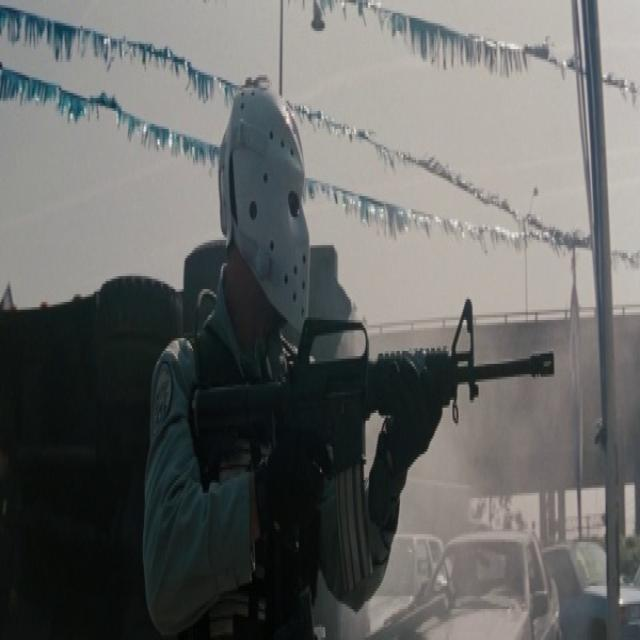rifle: (189, 293, 562, 555)
